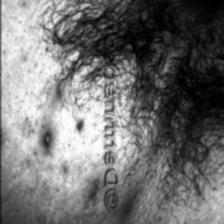Non-Cancerous Skin Condition: (126, 31, 162, 125), (68, 102, 88, 144), (36, 114, 54, 158)
